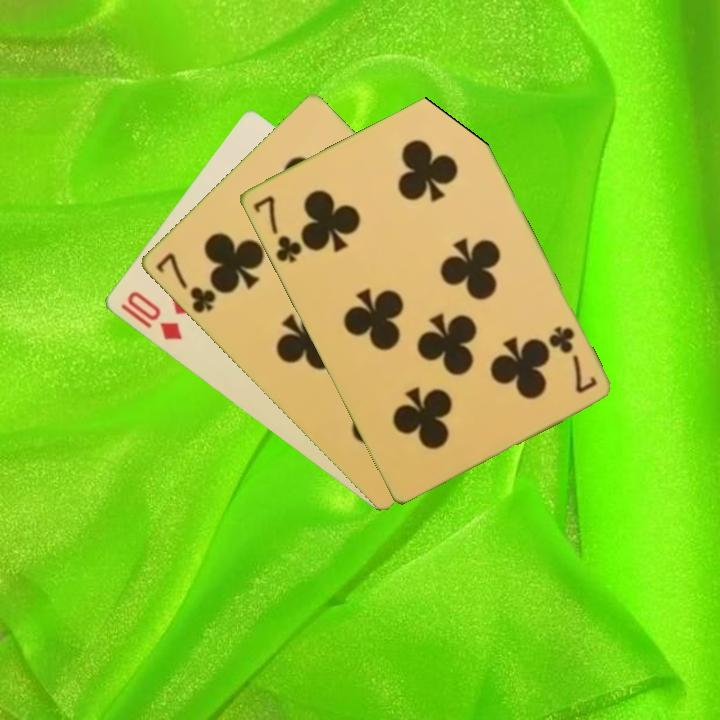10d: (122, 287, 185, 343)
7c: (151, 249, 219, 317), (248, 191, 305, 266), (544, 321, 600, 396)
